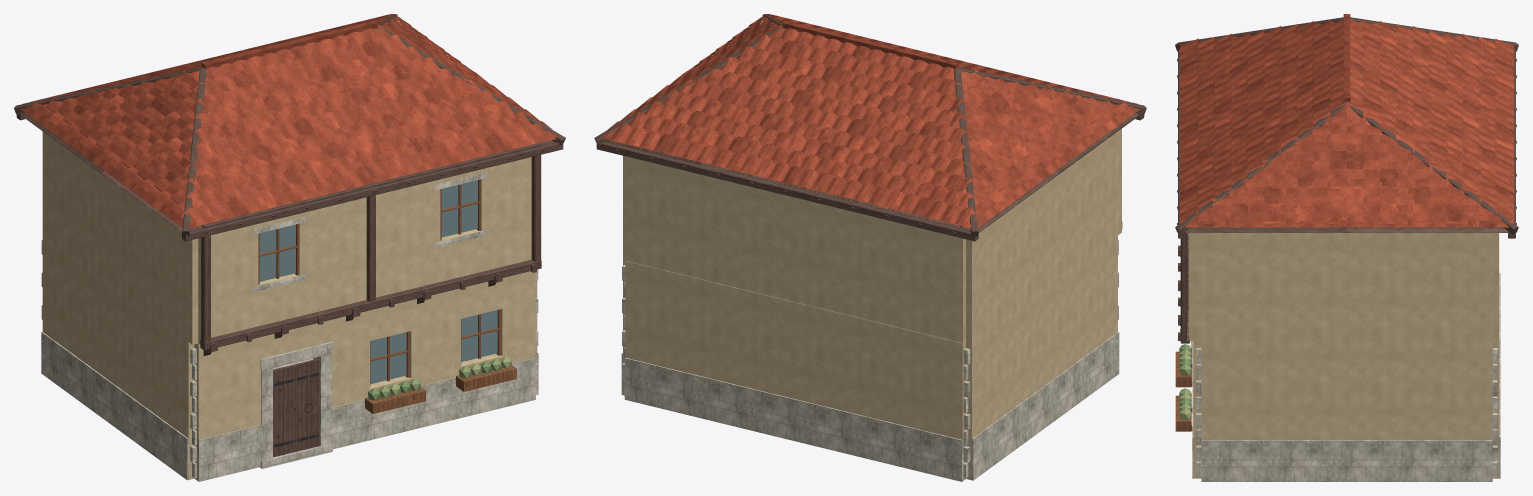
File: B19_vivienda.glb
3 views of the same model, side by side, from view 1: azimuth 30°, elevation 25°; view 2: azimuth 150°, elevation 25°; view 3: azimuth 270°, elevation 25° (orthographic).
Visible parts, largest first — view 1: AUR034_B19_clay_tiles, AUR034_B19_upper_plaster, AUR034_B19_lower_masonry, AUR034_B19_projecting_stone_plinth, AUR034_B19_entry_leaf0, AUR034_B19_sill, AUR034_B19_fascia-1, AUR034_B19_window2_glazing, AUR034_B19_window3_glazing, AUR034_B19_head, AUR034_B19_window0_glazing, AUR034_B19_window1_glazing (+15 smaller); view 2: AUR034_B19_clay_tiles, AUR034_B19_upper_plaster, AUR034_B19_lower_masonry, AUR034_B19_projecting_stone_plinth, AUR034_B19_fascia1, AUR034_B19_roof_sheathing, AUR034_B19_ridge, AUR034_B19_dressed_corner_stones, AUR034_B19_hip_rafter_-11, AUR034_B19_hip_rafter_-1-1, AUR034_B19_hip_rafter_11; view 3: AUR034_B19_clay_tiles, AUR034_B19_upper_plaster, AUR034_B19_lower_masonry, AUR034_B19_projecting_stone_plinth, AUR034_B19_roof_sheathing, AUR034_B19_dressed_corner_stones, AUR034_B19_hip_rafter_1-1, AUR034_B19_hip_rafter_11, AUR034_B19_post2, AUR034_B19_ridge, AUR034_B19_hip_rafter_-1-1, AUR034_B19_hip_rafter_-11 (+2 smaller).
Part boxes in pixels (x1,y1,x2,y2): AUR034_B19_clay_tiles: [20, 14, 558, 228]; AUR034_B19_upper_plaster: [42, 131, 541, 344]; AUR034_B19_lower_masonry: [42, 235, 537, 481]; AUR034_B19_projecting_stone_plinth: [41, 332, 538, 481]; AUR034_B19_entry_leaf0: [273, 358, 319, 457]; AUR034_B19_sill: [200, 259, 541, 350]; AUR034_B19_fascia-1: [182, 141, 563, 241]; AUR034_B19_window2_glazing: [259, 224, 295, 281]; AUR034_B19_window3_glazing: [441, 180, 477, 237]; AUR034_B19_head: [202, 143, 541, 227]; AUR034_B19_window0_glazing: [370, 332, 406, 384]; AUR034_B19_window1_glazing: [461, 310, 497, 361]; AUR034_B19_clay_tiles: [602, 14, 1140, 228]; AUR034_B19_upper_plaster: [623, 29, 1121, 342]; AUR034_B19_lower_masonry: [623, 235, 1117, 479]; AUR034_B19_projecting_stone_plinth: [621, 332, 1119, 481]; AUR034_B19_fascia1: [596, 142, 978, 241]; AUR034_B19_roof_sheathing: [606, 26, 1139, 232]; AUR034_B19_ridge: [782, 20, 958, 69]; AUR034_B19_dressed_corner_stones: [622, 240, 1118, 478]; AUR034_B19_hip_rafter_-11: [953, 68, 978, 236]; AUR034_B19_hip_rafter_-1-1: [957, 67, 1146, 114]; AUR034_B19_hip_rafter_11: [594, 27, 783, 145]; AUR034_B19_clay_tiles: [1180, 19, 1513, 227]; AUR034_B19_upper_plaster: [1187, 233, 1498, 343]; AUR034_B19_lower_masonry: [1193, 233, 1499, 478]; AUR034_B19_projecting_stone_plinth: [1192, 273, 1500, 481]; AUR034_B19_roof_sheathing: [1186, 227, 1507, 232]; AUR034_B19_dressed_corner_stones: [1196, 348, 1497, 476]; AUR034_B19_hip_rafter_1-1: [1175, 102, 1344, 234]; AUR034_B19_hip_rafter_11: [1349, 102, 1518, 234]; AUR034_B19_post2: [1181, 233, 1188, 339]; AUR034_B19_ridge: [1343, 14, 1350, 102]; AUR034_B19_hip_rafter_-1-1: [1175, 17, 1343, 51]; AUR034_B19_hip_rafter_-11: [1350, 17, 1518, 51].
Bounding box in the file's own units: 9.11 × 7.78 × 7.08.
12 materials, 8 textured.
